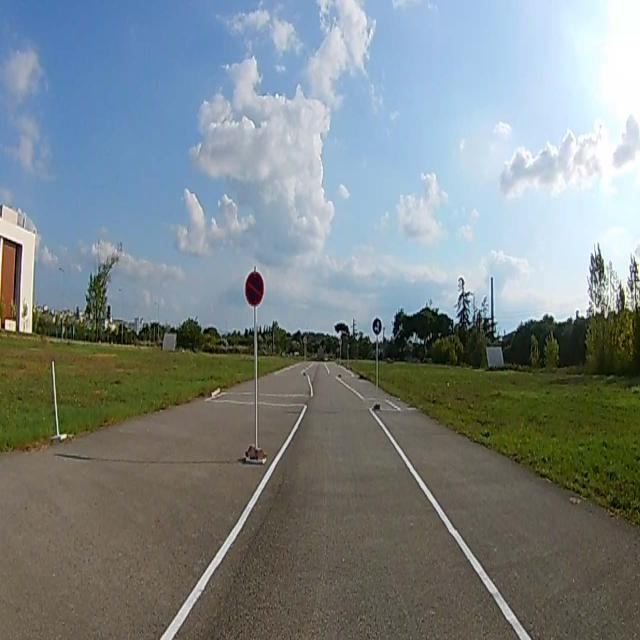parkyasak: (244, 273, 263, 306)
